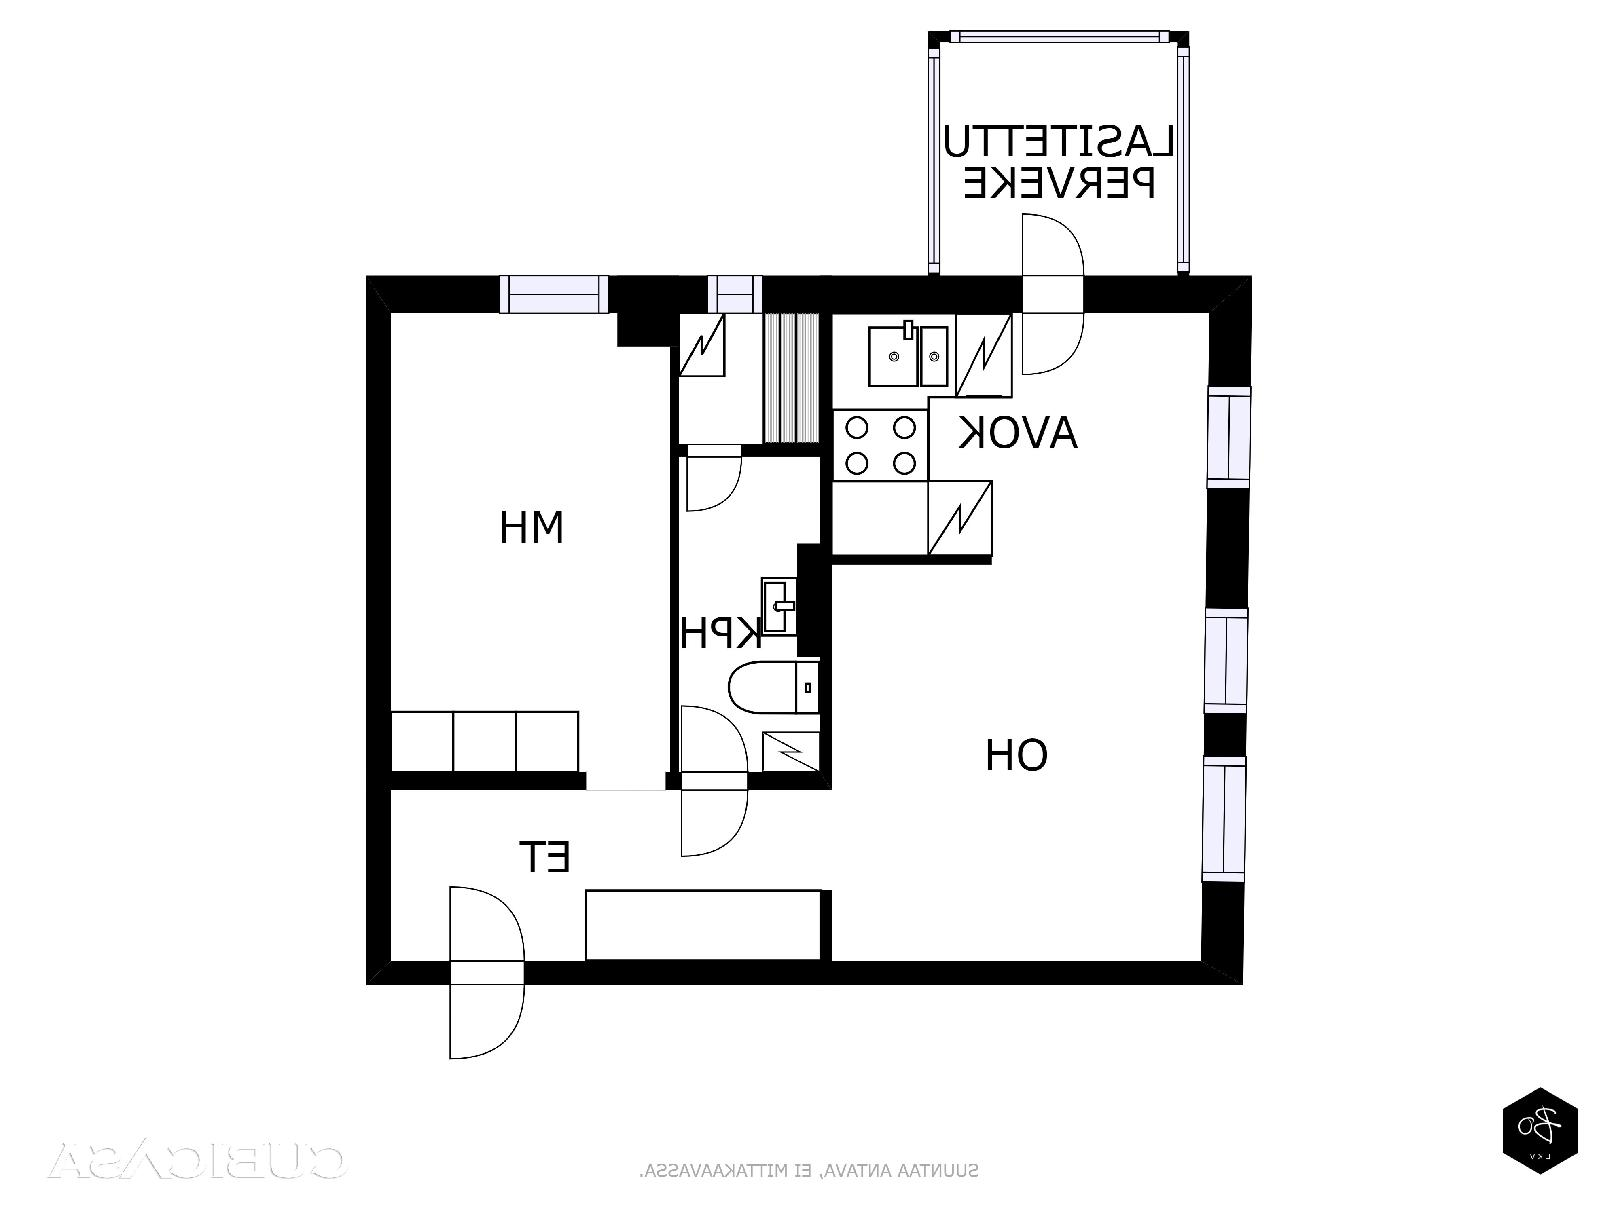door: (443, 883, 534, 1074), (677, 703, 754, 863), (1022, 208, 1091, 377), (685, 443, 743, 516)
window: (1204, 756, 1249, 884), (1204, 385, 1249, 489), (1201, 608, 1245, 710), (496, 276, 605, 311), (707, 271, 759, 312)
zone: (391, 311, 1208, 961), (936, 36, 1175, 270), (677, 456, 819, 772), (677, 306, 822, 445)
